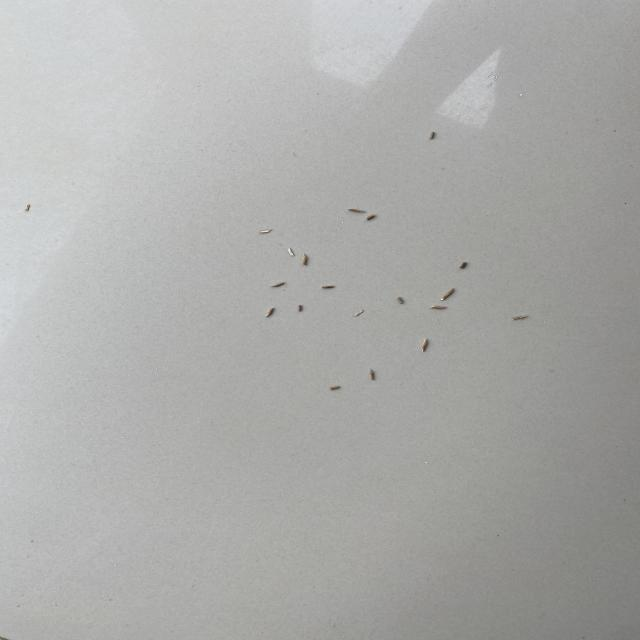Wereng: (432, 285, 461, 303), (317, 280, 341, 296), (326, 381, 352, 394), (343, 205, 371, 217), (300, 250, 316, 271), (455, 257, 475, 273), (421, 334, 435, 356), (507, 310, 529, 323), (426, 302, 451, 313), (367, 365, 381, 383), (268, 278, 290, 289), (21, 202, 38, 216), (394, 294, 411, 308), (284, 246, 300, 260), (258, 225, 274, 238), (364, 213, 382, 224), (293, 303, 311, 314), (353, 308, 368, 321), (427, 128, 439, 144), (266, 308, 280, 319)
